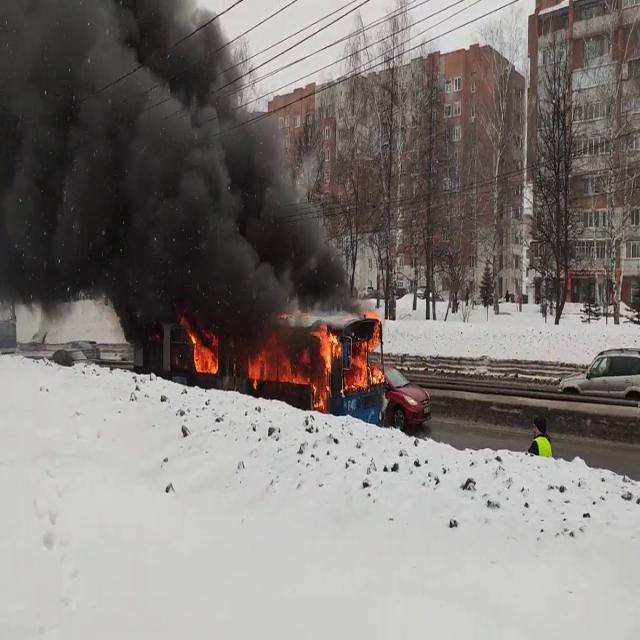Fire: (316, 314, 388, 402), (183, 323, 220, 378)
Smoke: (0, 0, 358, 342)
